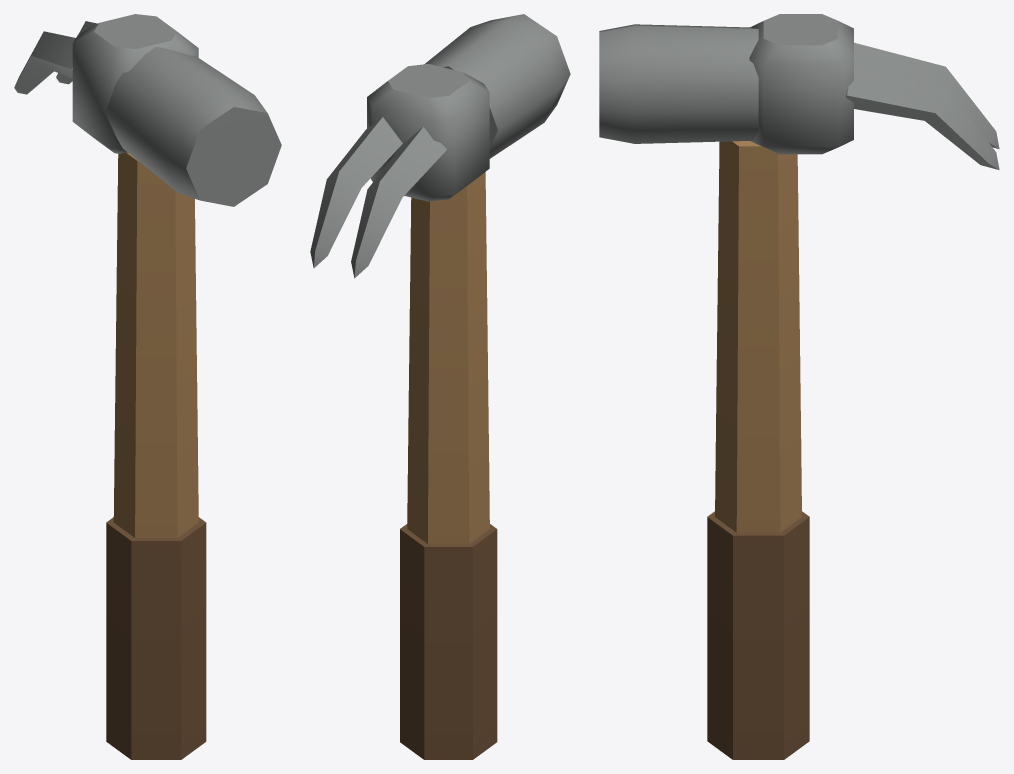
File: hammer.glb
3 views of the same model, side by side, from view 1: azimuth 30°, elevation 25°; view 2: azimuth 150°, elevation 25°; view 3: azimuth 270°, elevation 25° (orthographic). The views are drawn at different scales.
Visible parts, largest first — view 1: hammer; view 2: hammer; view 3: hammer.
Boxes of the visible parts, x1,y1,x2,y2 form: hammer: (14,14,281,759); hammer: (310,14,570,759); hammer: (599,14,999,759).
Size of the model in its own units: 0.036 by 0.223 by 0.1132.
